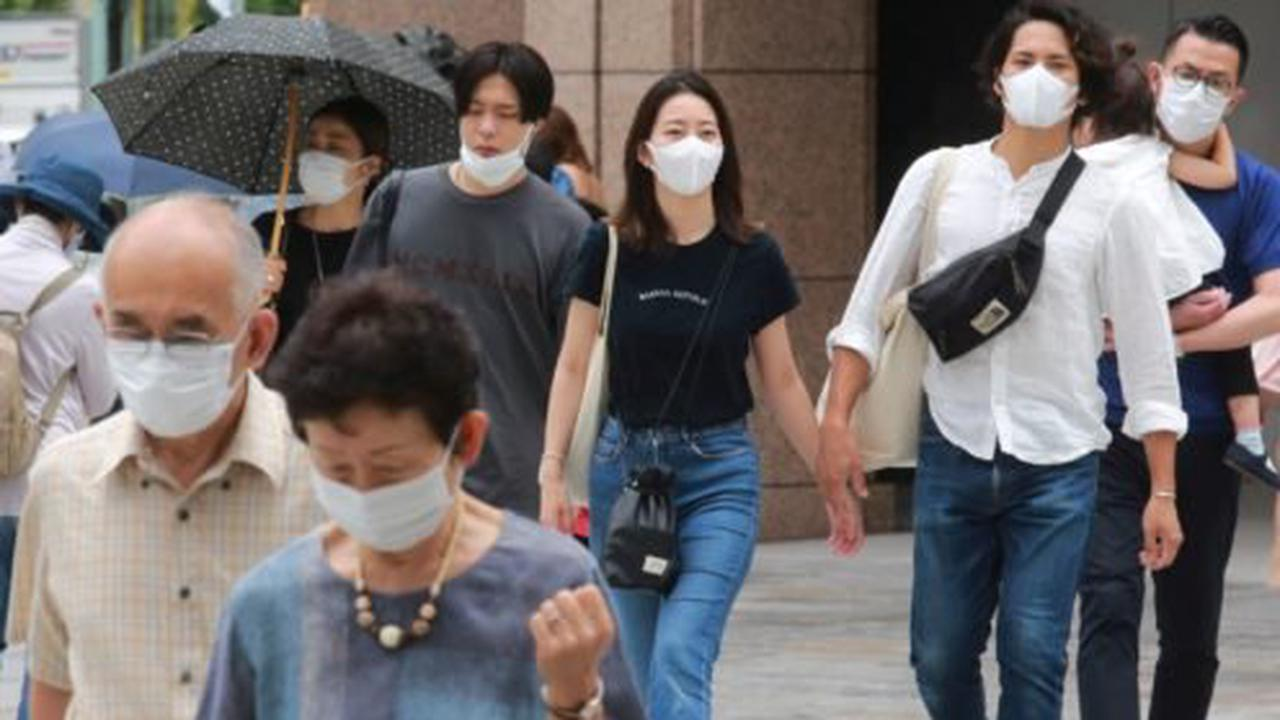with_mask: (108, 265, 236, 431), (325, 415, 429, 537), (1163, 55, 1235, 126), (651, 114, 718, 190), (1007, 39, 1077, 106), (307, 114, 350, 197)
without_mask: (458, 85, 528, 185)
